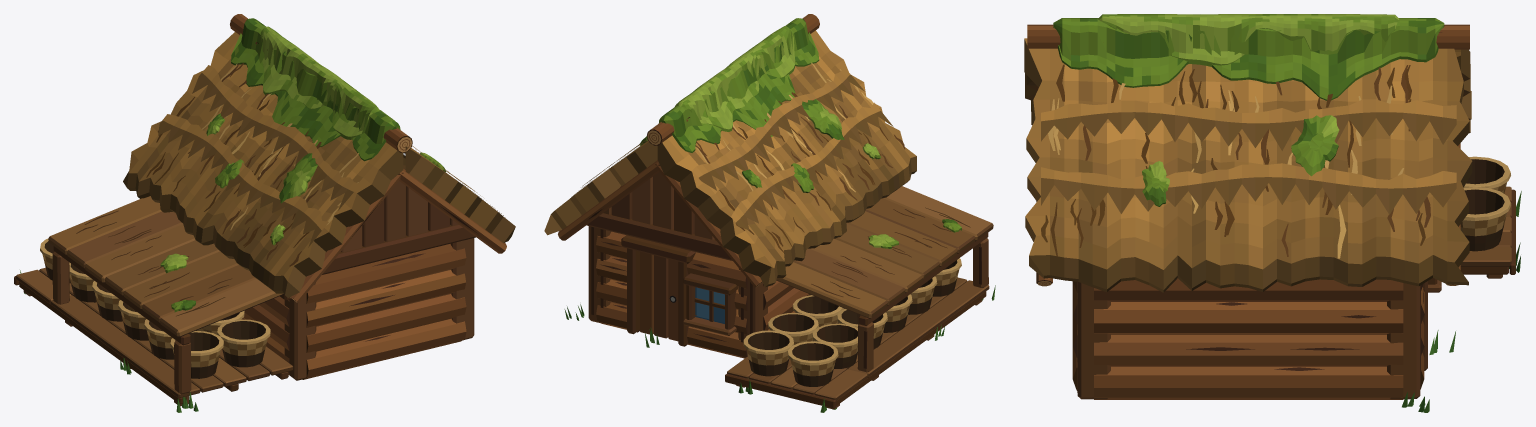
Rendered from berry-hut.glb.
3 renders of one model, left to right at view 1: azimuth 30°, elevation 25°; view 2: azimuth 150°, elevation 25°; view 3: azimuth 270°, elevation 25°, orthographic. The views are drawn at different scales.
Parts seen in each view (by area): view 1: TownToonBerryHut; view 2: TownToonBerryHut; view 3: TownToonBerryHut.
Boxes of the visible parts, <box> form: TownToonBerryHut: <box>14,14,515,412</box>; TownToonBerryHut: <box>544,14,995,412</box>; TownToonBerryHut: <box>1024,14,1521,412</box>.
Bounding box in the file's own units: 4.11 × 2.96 × 4.02.
